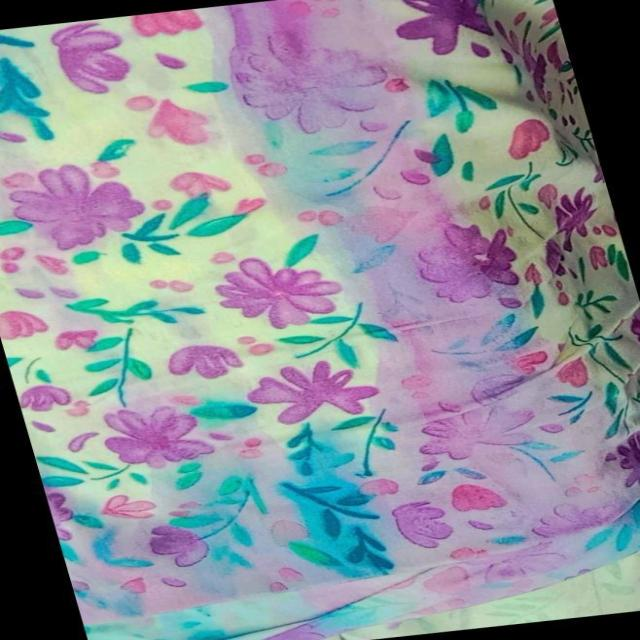baekra: (190, 0, 640, 620), (16, 355, 372, 640), (0, 54, 145, 358)
